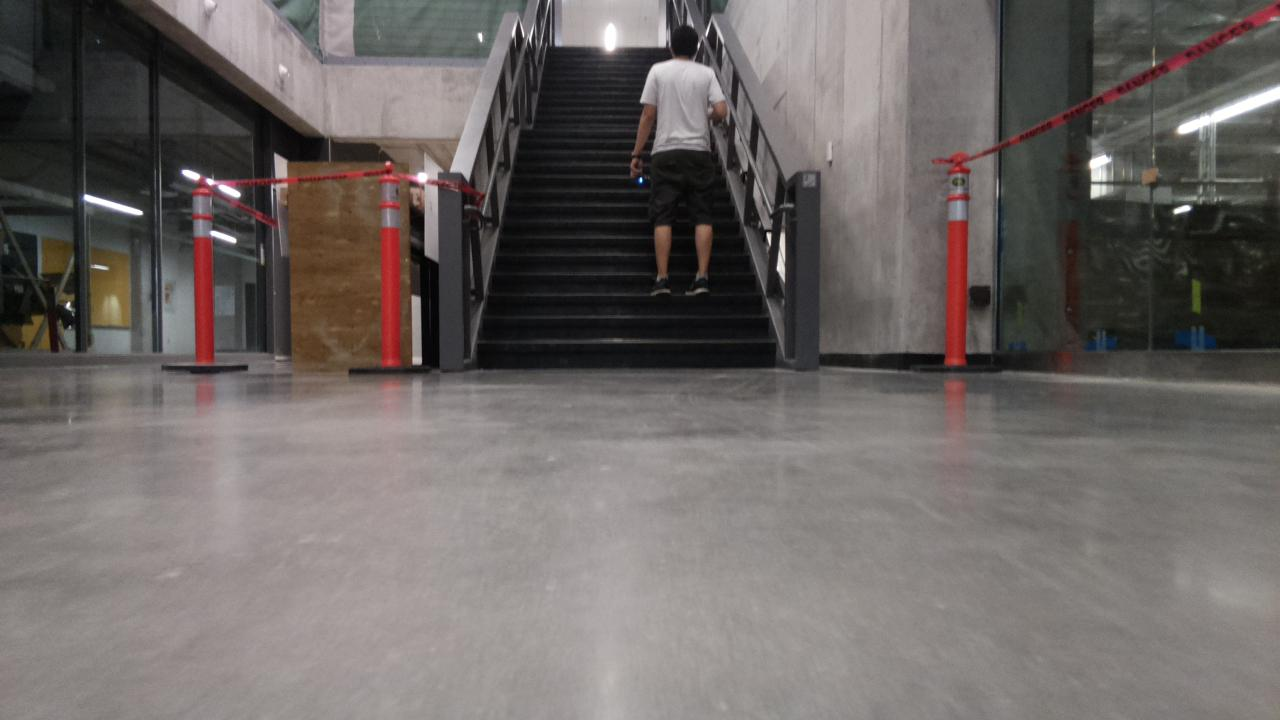person: (629, 25, 728, 297)
stair: (477, 45, 778, 368)
